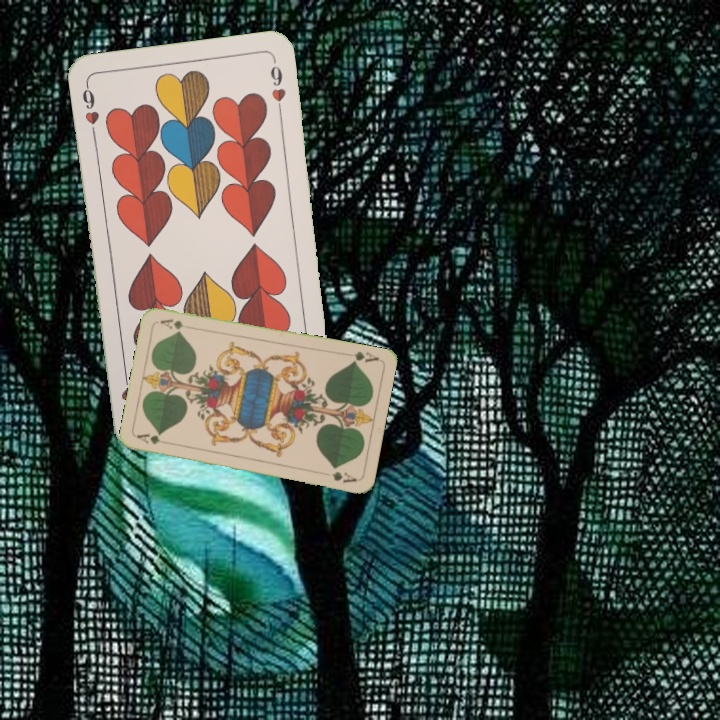GA: (133, 430, 174, 447), (348, 347, 381, 366)
H9: (78, 79, 102, 138)
